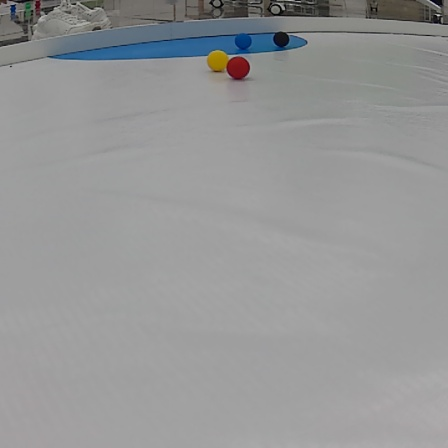black: (270, 32, 291, 50)
blue: (234, 32, 253, 50)
blue_base: (40, 36, 323, 59)
red: (224, 58, 253, 80)
yellow: (205, 51, 228, 73)
